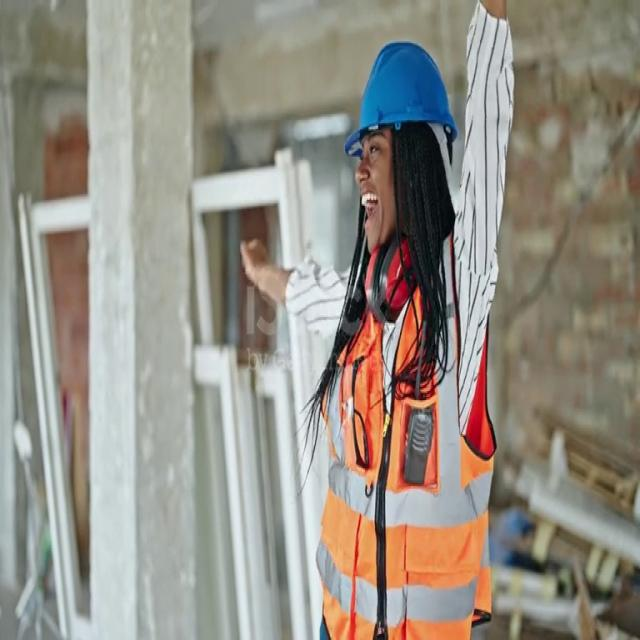capacete: (325, 22, 461, 175)
